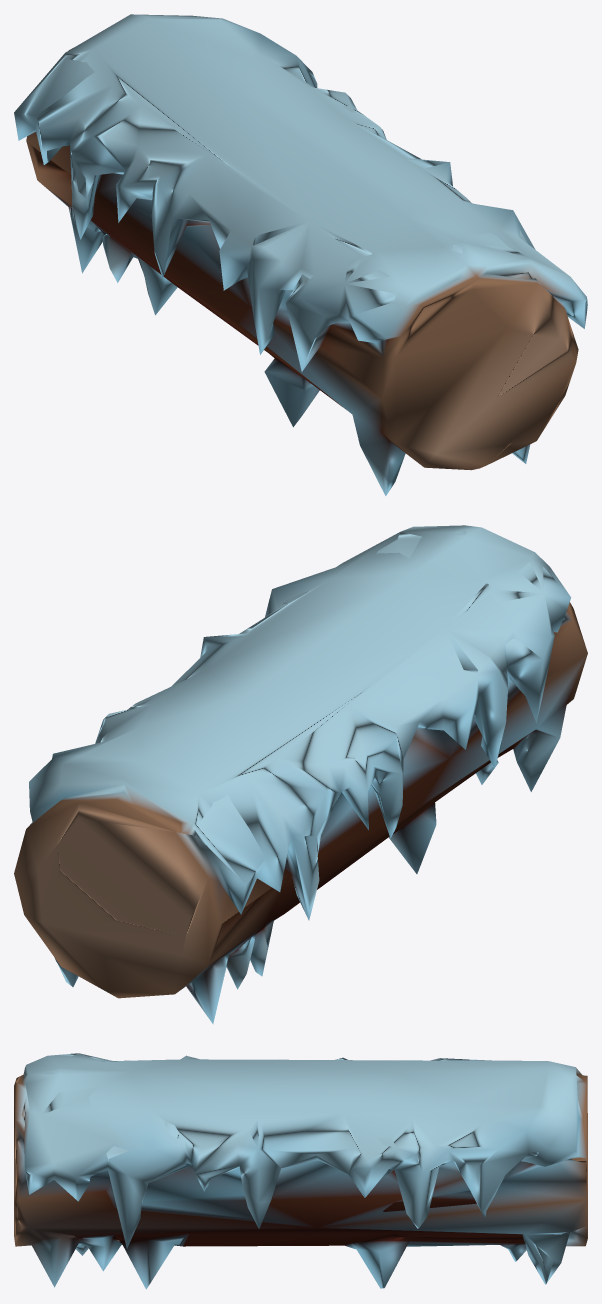
File: gen3d-frozen-log-lod1.glb
The picture shows the model from 3 angles, top to bottom: view 1: azimuth 30°, elevation 25°; view 2: azimuth 150°, elevation 25°; view 3: azimuth 270°, elevation 25°; orthographic projection. The views are drawn at different scales.
Parts seen in each view (by area): view 1: part_0; view 2: part_0; view 3: part_0.
Part boxes in pixels (left/top/right/bottom): part_0: left=14, top=14, right=587, bottom=495; part_0: left=14, top=525, right=587, bottom=1024; part_0: left=14, top=1053, right=587, bottom=1289.
Size of the model in its own units: 1.06 by 0.9978 by 2.62.
